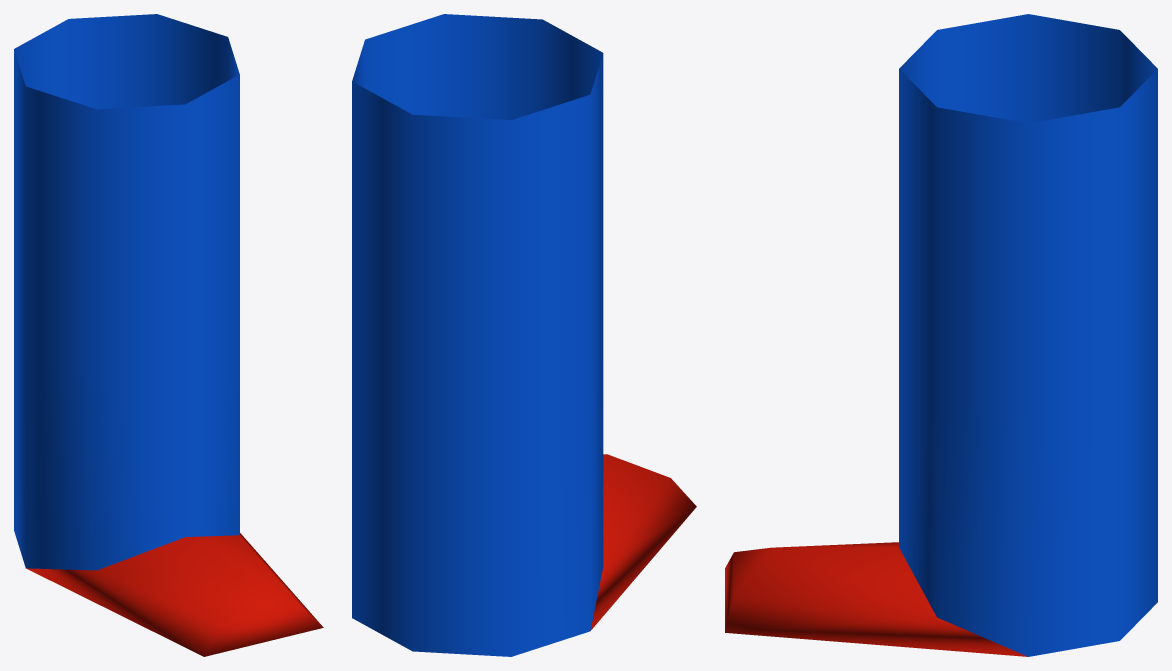
The model's file is miner_legleft.sapphire.obj.
3 renders of one model, left to right at view 1: azimuth 30°, elevation 25°; view 2: azimuth 150°, elevation 25°; view 3: azimuth 270°, elevation 25°, orthographic. The views are drawn at different scales.
Visible parts, largest first — view 1: Leg.Left_Cube.000; view 2: Leg.Left_Cube.000; view 3: Leg.Left_Cube.000.
Boxes of the visible parts, bbox=[...] form: Leg.Left_Cube.000: bbox=[14, 14, 323, 656]; Leg.Left_Cube.000: bbox=[352, 14, 696, 656]; Leg.Left_Cube.000: bbox=[725, 14, 1157, 656].
Bounding box in the file's own units: 0.14 × 0.3186 × 0.2342.
